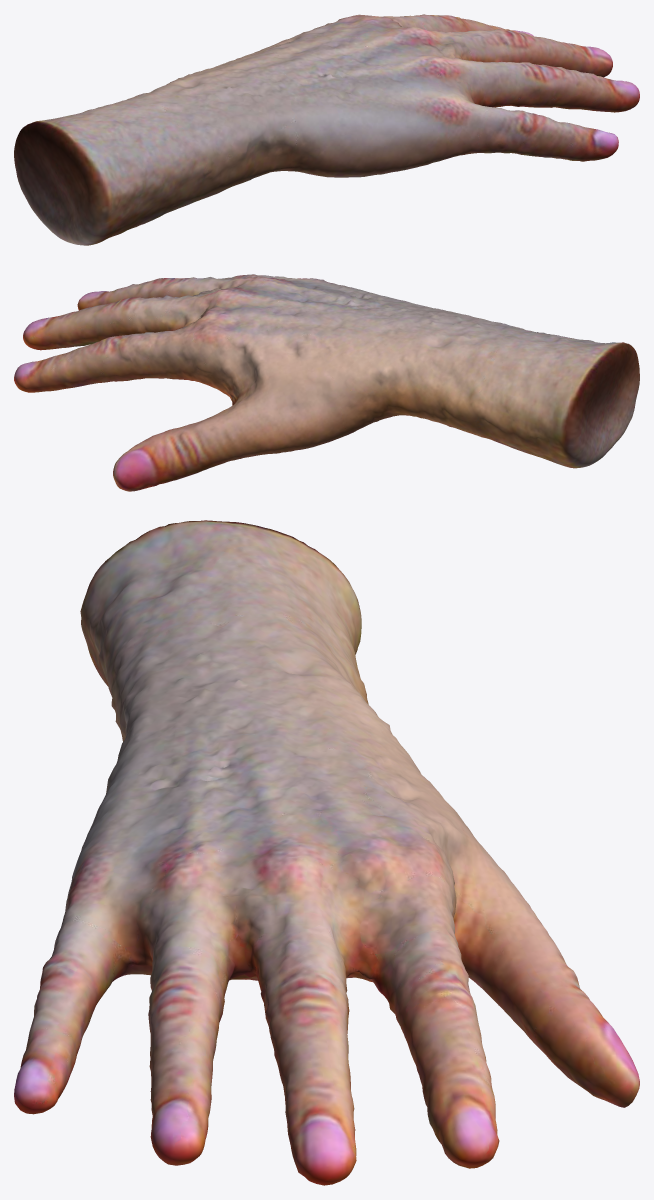
The model's file is hand.glb.
3 views of the same model, one above another, from view 1: azimuth 30°, elevation 25°; view 2: azimuth 150°, elevation 25°; view 3: azimuth 270°, elevation 25° (orthographic). The views are drawn at different scales.
Visible parts, largest first — view 1: Mesh1; view 2: Mesh1; view 3: Mesh1.
Part boxes in pixels (x1,y1,x2,y2): Mesh1: [14, 14, 639, 245]; Mesh1: [14, 274, 639, 491]; Mesh1: [14, 520, 639, 1185].
Size of the model in its own units: 1.2 by 0.3011 by 0.6477.
1 material, 1 textured.
